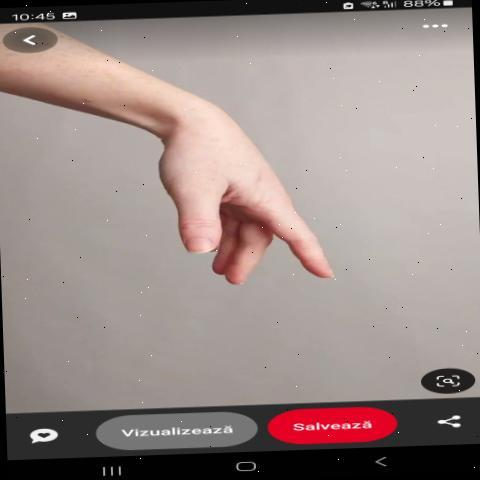Hands: (109, 71, 404, 321)
